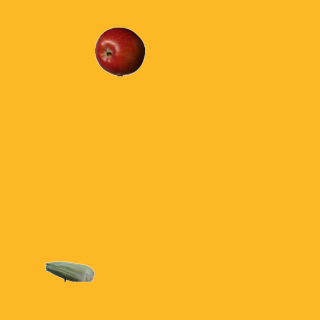Apple Braeburn: (94, 26, 144, 76)
Corn Husk: (44, 246, 94, 296)
